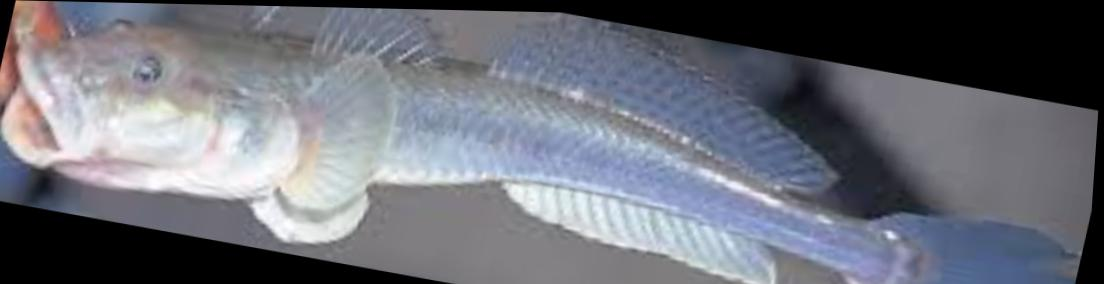fish: (4, 4, 1080, 284)
